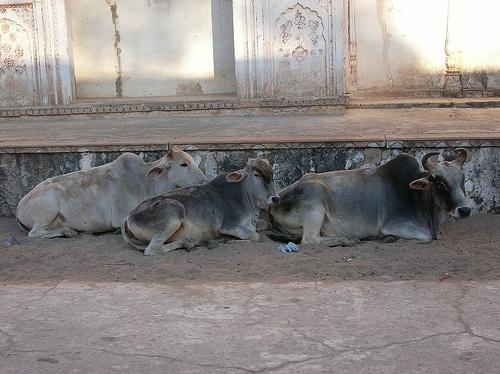cow: (268, 147, 482, 252), (13, 146, 210, 240), (119, 155, 281, 258)
